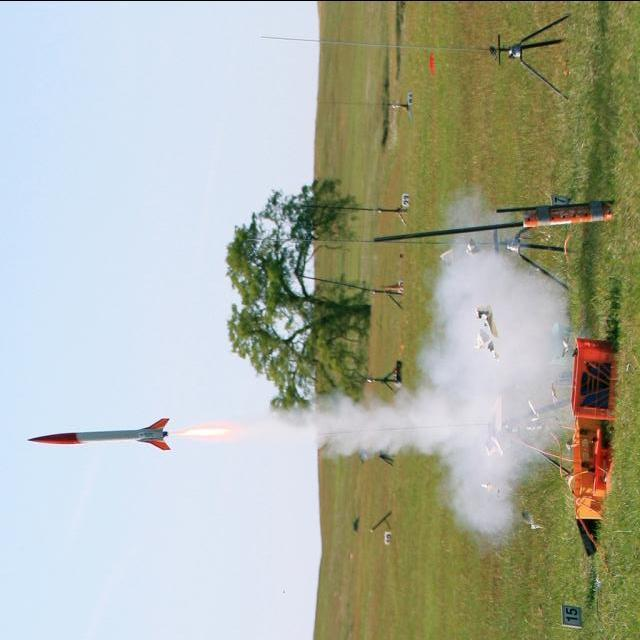missile: (25, 420, 173, 460)
